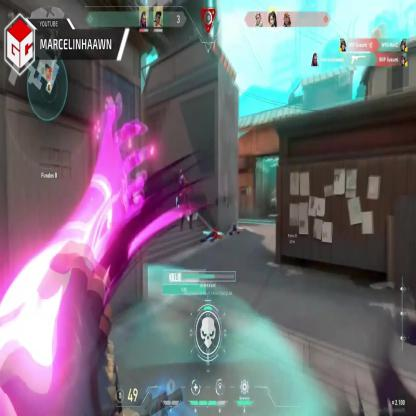enemy: (177, 168, 192, 229)
enemy_head: (180, 168, 183, 178)
